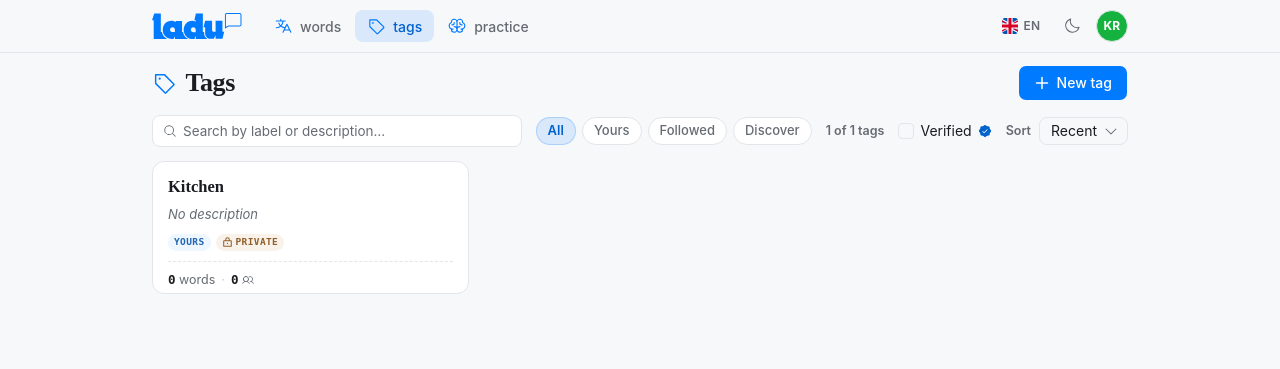
Test: TagsPage — empty states › a search with no matches shows the clear-search CTA
expect the text "Kitchen" is shown: met, box left=168, top=177, right=224, bottom=196
In the field with placeholder "Search by label or description…": (348,131) left=183, top=121, right=513, bottom=141, type "zzz"
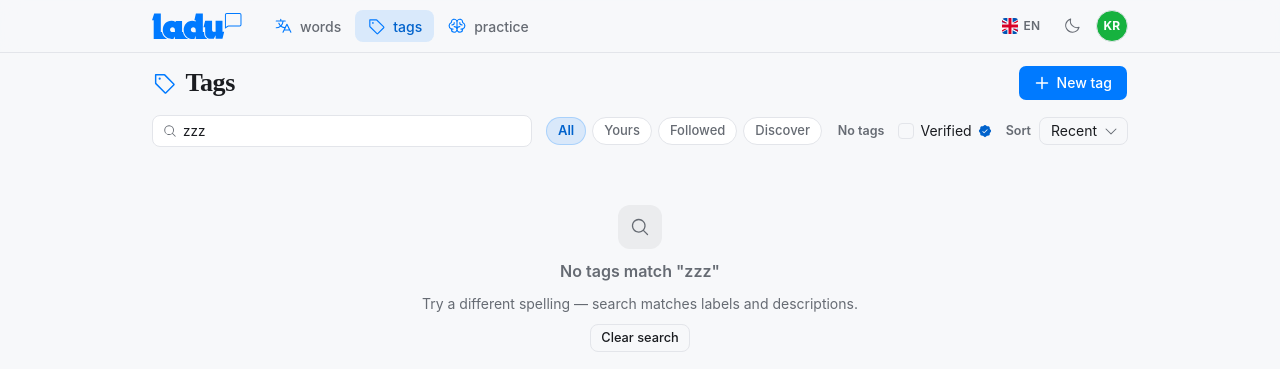
expect the text "No tags match \"zzz\"" is shown: met, box left=560, top=259, right=720, bottom=283
Click the button "Clear search": (640,338) left=590, top=324, right=690, bottom=352
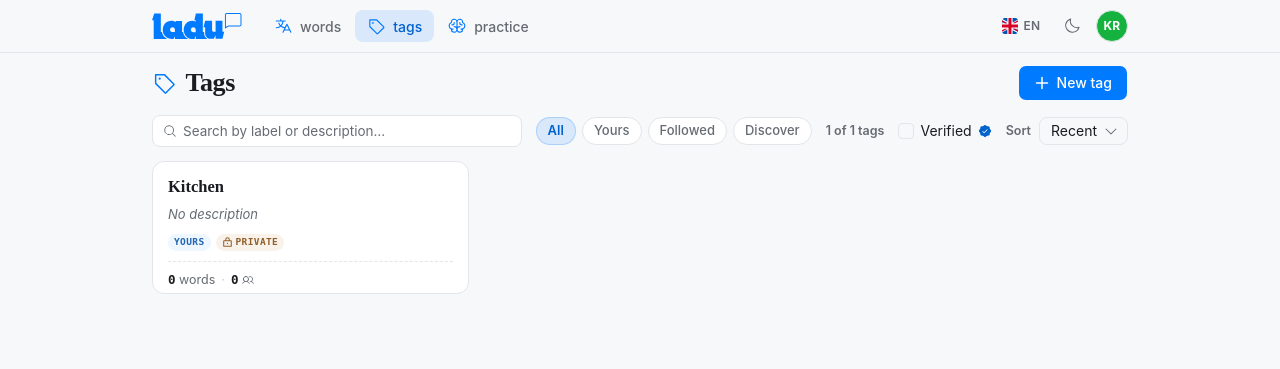
expect the text "Kitchen" is shown: met, box left=168, top=177, right=224, bottom=196
